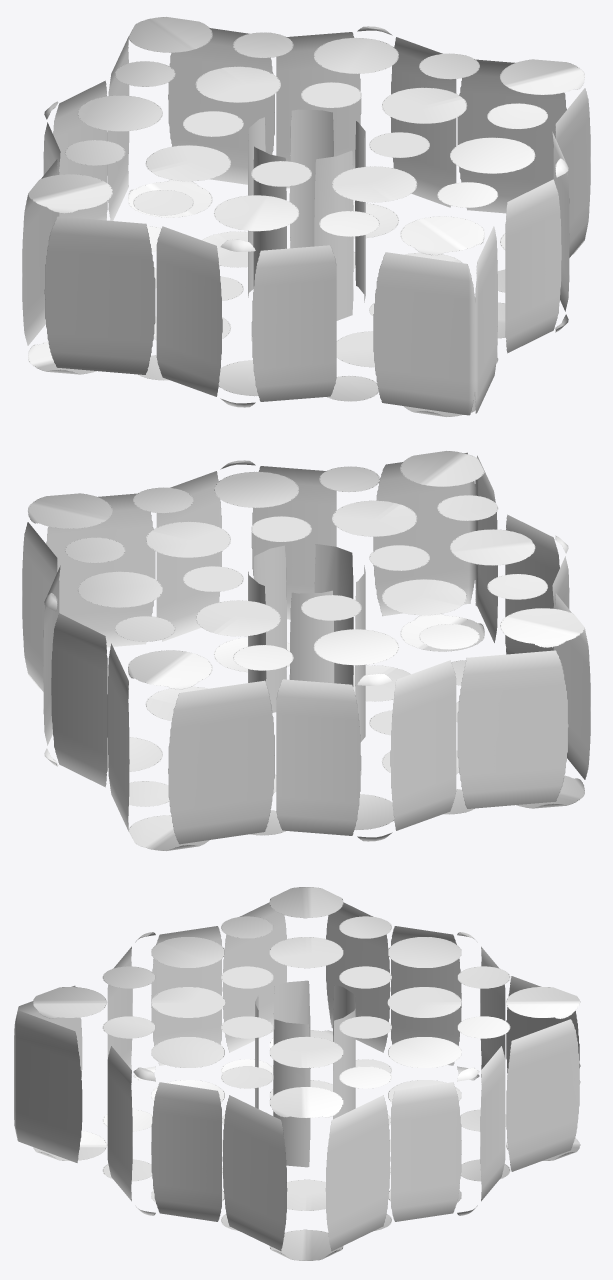
3 renders of one model, top to bottom at view 1: azimuth 30°, elevation 25°; view 2: azimuth 150°, elevation 25°; view 3: azimuth 270°, elevation 25°, orthographic. The views are drawn at different scales.
Parts seen in each view (by area): view 1: Chakra.012; view 2: Chakra.012; view 3: Chakra.012.
Part boxes in pixels (<box>): Chakra.012: <box>22,17,590,416</box>; Chakra.012: <box>22,451,590,850</box>; Chakra.012: <box>14,887,580,1260</box>.
Size of the model in its own units: 266 by 71.66 by 266.
